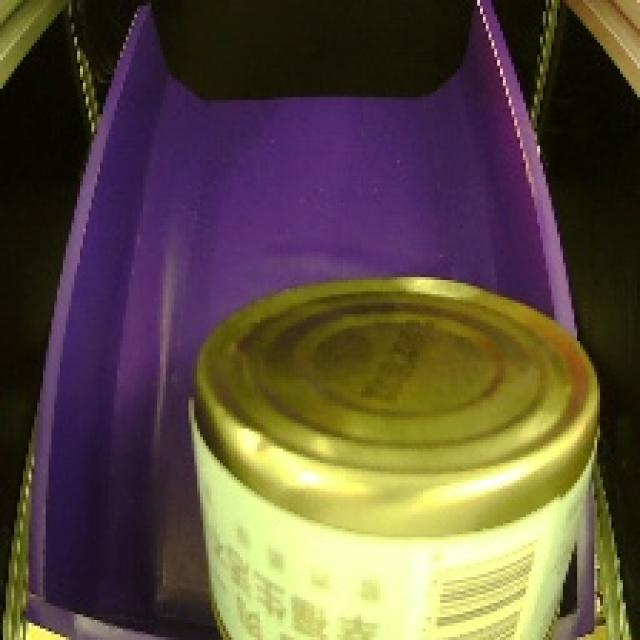metal: (161, 261, 614, 640)
